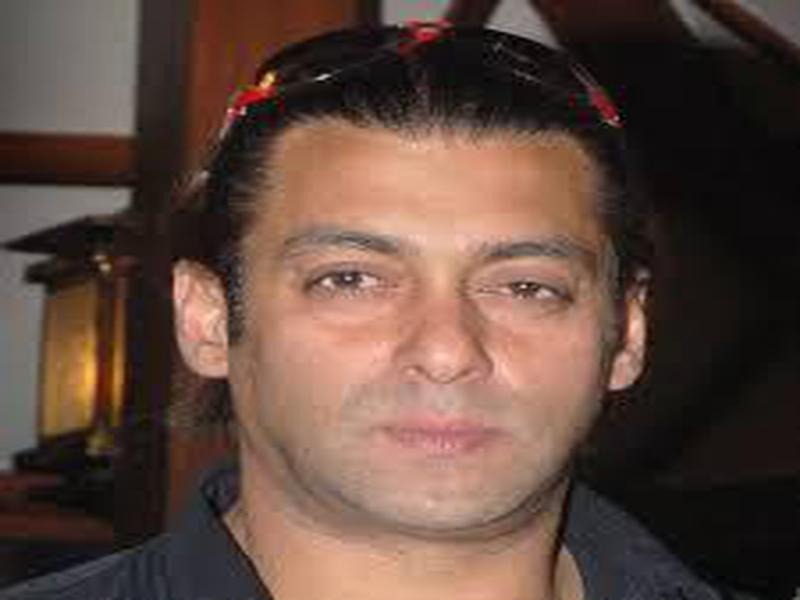without_mask: (255, 136, 608, 542)
